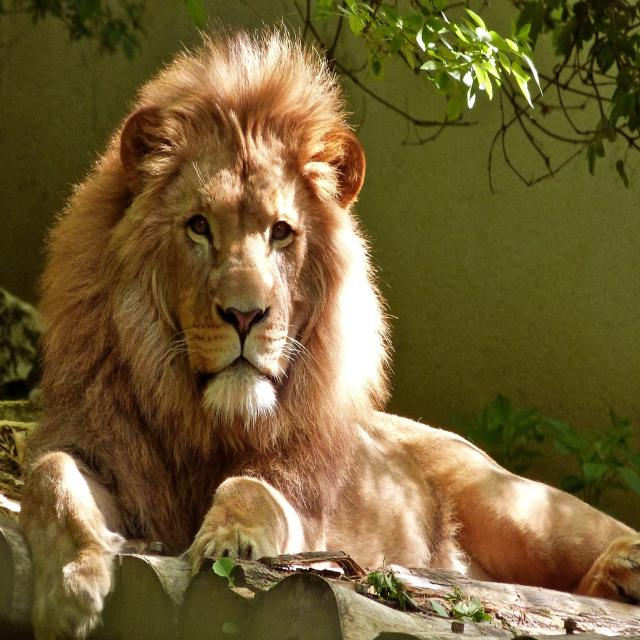animal: (21, 21, 640, 639)
